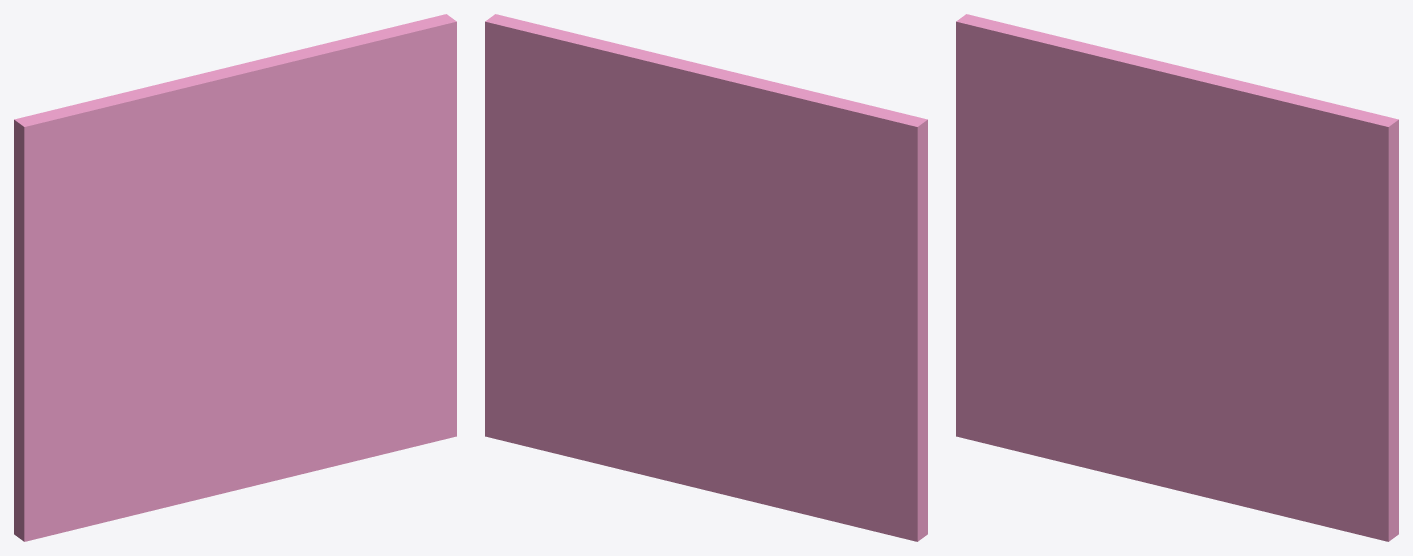
File: Thermal_Paste.gltf
The picture shows the model from 3 angles, left to right: view 1: azimuth 30°, elevation 25°; view 2: azimuth 150°, elevation 25°; view 3: azimuth 330°, elevation 25°; orthographic projection.
Bounding box in the file's own units: 21.6 × 19.8 × 0.9.
